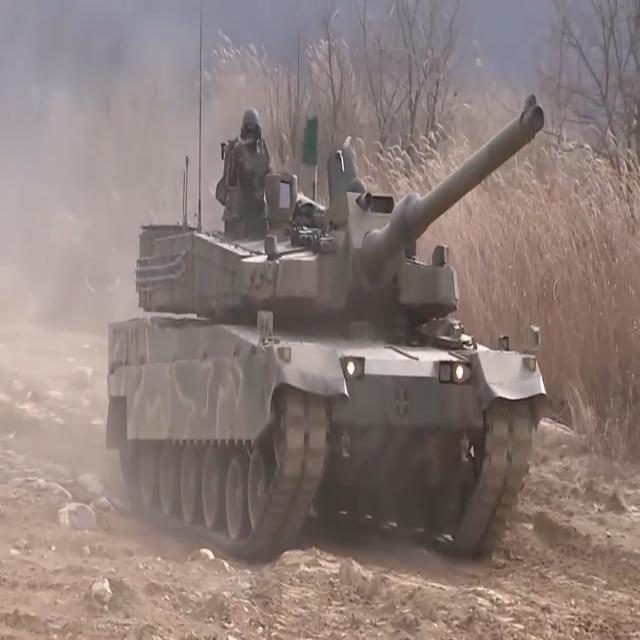korea tank: (105, 92, 547, 564)
